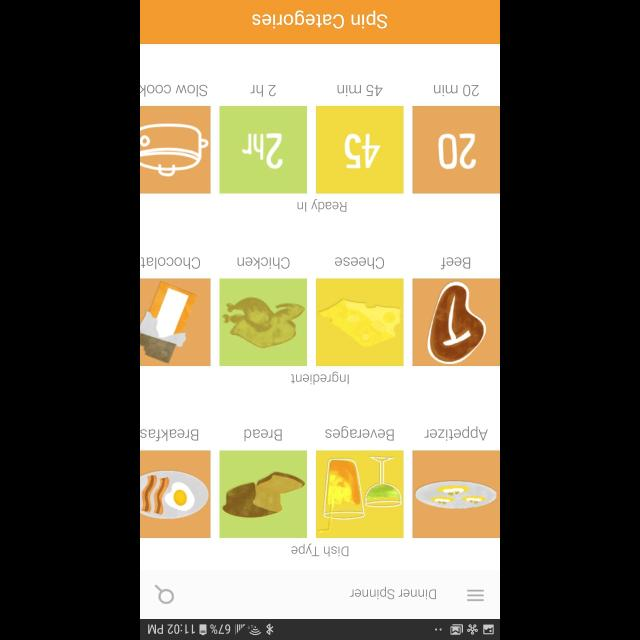icon: (154, 584, 174, 604), (466, 588, 484, 602)
image: (412, 450, 500, 538), (412, 278, 500, 366), (316, 278, 404, 366), (412, 106, 500, 194), (316, 106, 404, 194), (316, 450, 402, 538), (220, 450, 306, 538), (220, 278, 306, 366), (220, 106, 306, 194), (140, 450, 210, 538), (140, 278, 210, 366), (140, 106, 210, 194)
text: (350, 586, 436, 600), (326, 426, 394, 440), (424, 426, 488, 440), (140, 256, 200, 270), (140, 85, 208, 97), (140, 428, 198, 442), (291, 371, 349, 385), (292, 543, 348, 557), (237, 256, 289, 270), (334, 256, 384, 270), (298, 199, 347, 213), (433, 85, 479, 97), (244, 428, 282, 442), (338, 84, 382, 96), (250, 84, 276, 98), (440, 257, 470, 269)
textbutton: (140, 0, 500, 44)
uppertaskbar: (140, 618, 500, 640)
